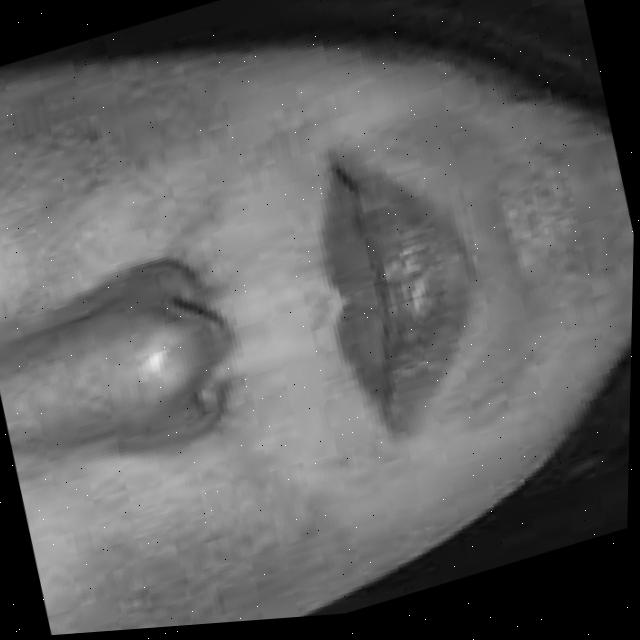Rosacea: (0, 30, 254, 312), (62, 413, 364, 634), (492, 136, 636, 322), (13, 294, 194, 438)
